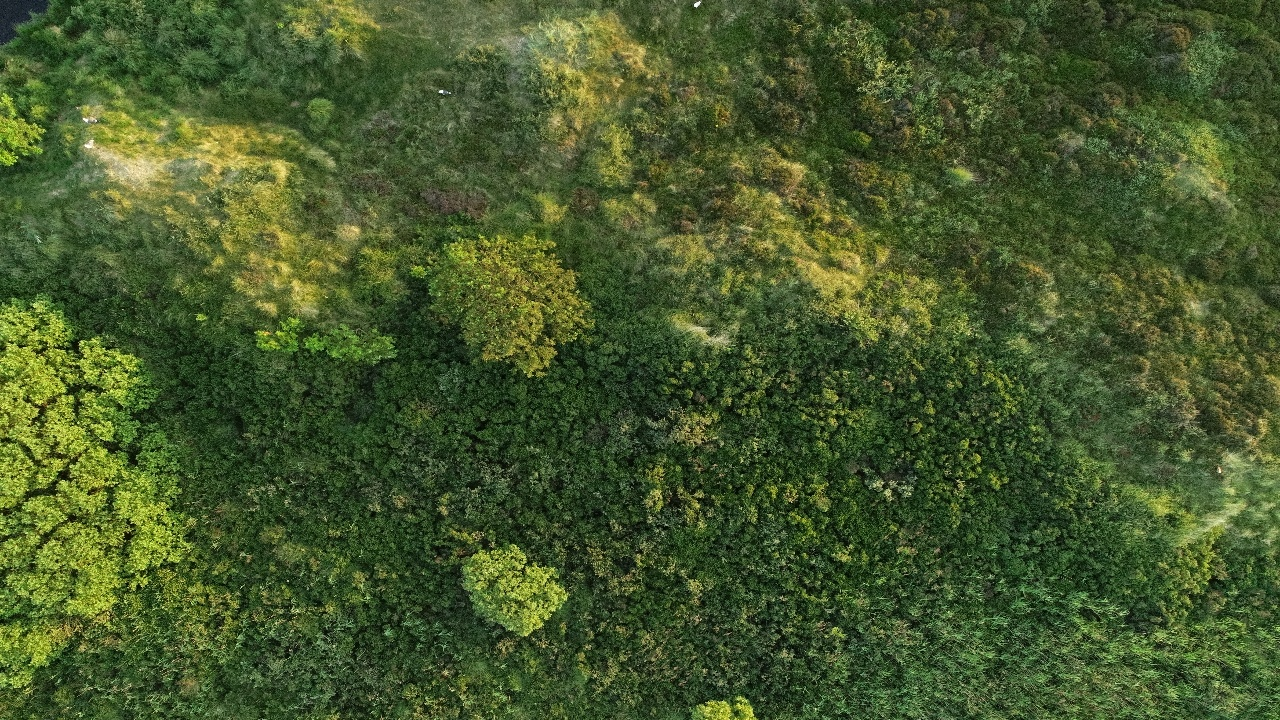Bird: (73, 125, 110, 161), (72, 102, 109, 138), (427, 76, 464, 112)
